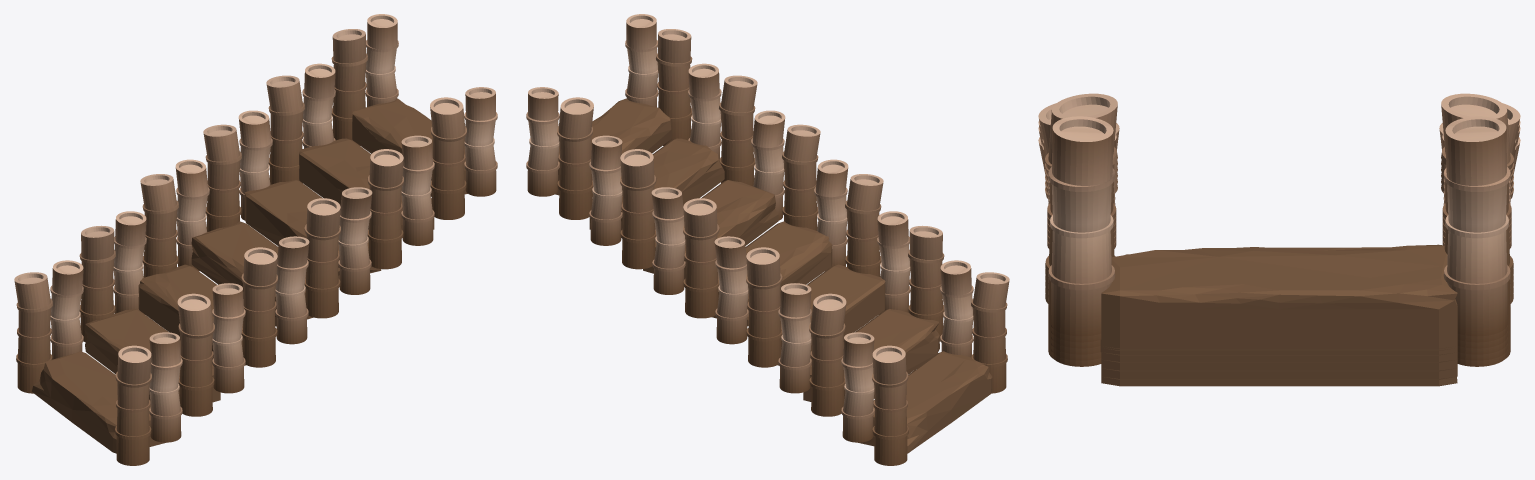
File: Raven_Wooden_Stairs.fbx
3 views of the same model, side by side, from view 1: azimuth 30°, elevation 25°; view 2: azimuth 150°, elevation 25°; view 3: azimuth 270°, elevation 25° (orthographic). The views are drawn at different scales.
Visible parts, largest first — view 1: Cylinder, Cube; view 2: Cylinder, Cube; view 3: Cube, Cylinder.
Part boxes in pixels (left/top/right/bottom): Cylinder: left=14, top=14, right=497, bottom=465; Cube: left=31, top=98, right=467, bottom=453; Cylinder: left=526, top=14, right=1009, bottom=465; Cube: left=555, top=98, right=992, bottom=453; Cube: left=1100, top=244, right=1457, bottom=386; Cylinder: left=1038, top=93, right=1520, bottom=366.
Bounding box in the file's own units: 435 × 309 × 240.
2 materials, 1 textured.
